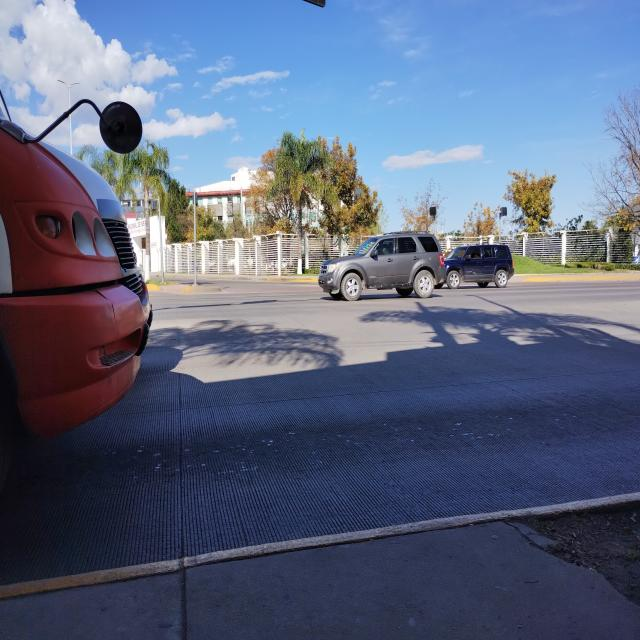Auto: (316, 230, 446, 305), (439, 243, 517, 288)
Autobus: (0, 88, 151, 460)
